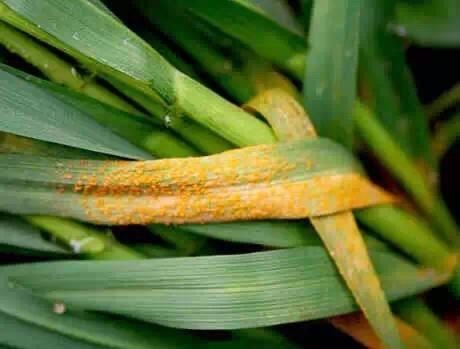Leaf Rust: (77, 146, 314, 230)
